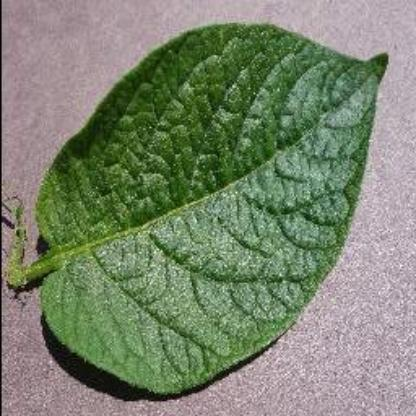Healthy-plant: (12, 23, 390, 396)
